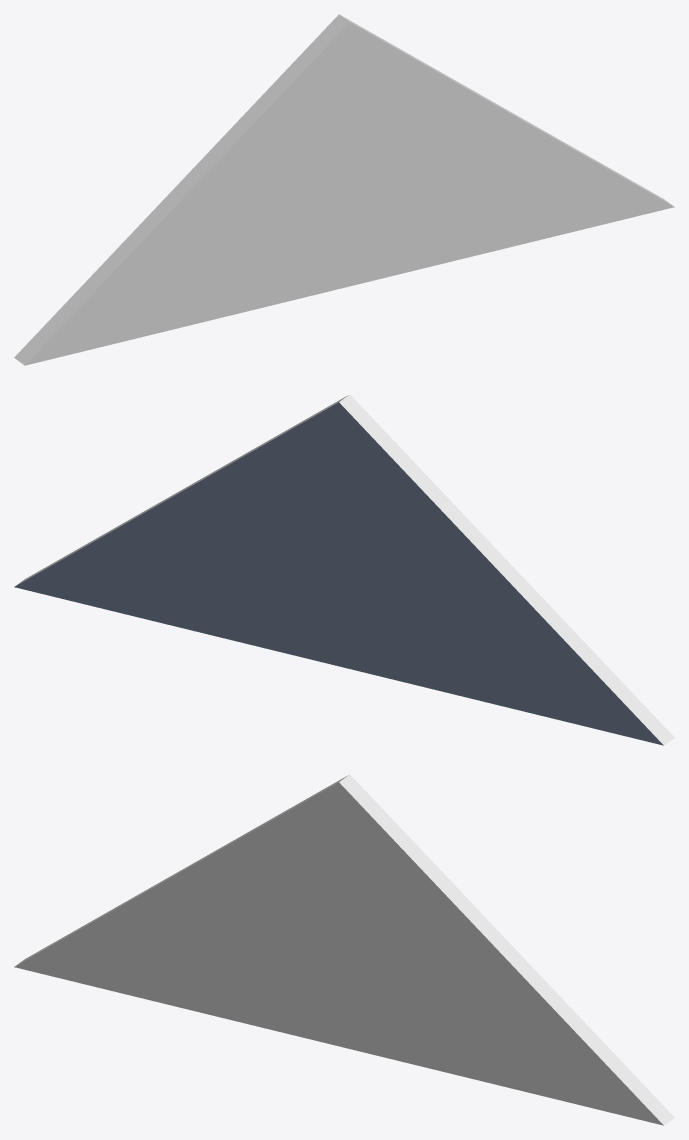
The model's file is Wall3_C2_16.fbx.
3 views of the same model, one above another, from view 1: azimuth 30°, elevation 25°; view 2: azimuth 150°, elevation 25°; view 3: azimuth 330°, elevation 25° (orthographic).
Visible parts, largest first — view 1: Wall3_C2_16; view 2: Wall3_C2_16; view 3: Wall3_C2_16.
Boxes of the visible parts, x1,y1,x2,y2 form: Wall3_C2_16: (14, 14, 674, 365); Wall3_C2_16: (14, 394, 674, 745); Wall3_C2_16: (14, 774, 674, 1125).
Size of the model in its own units: 515 by 200 by 15.
